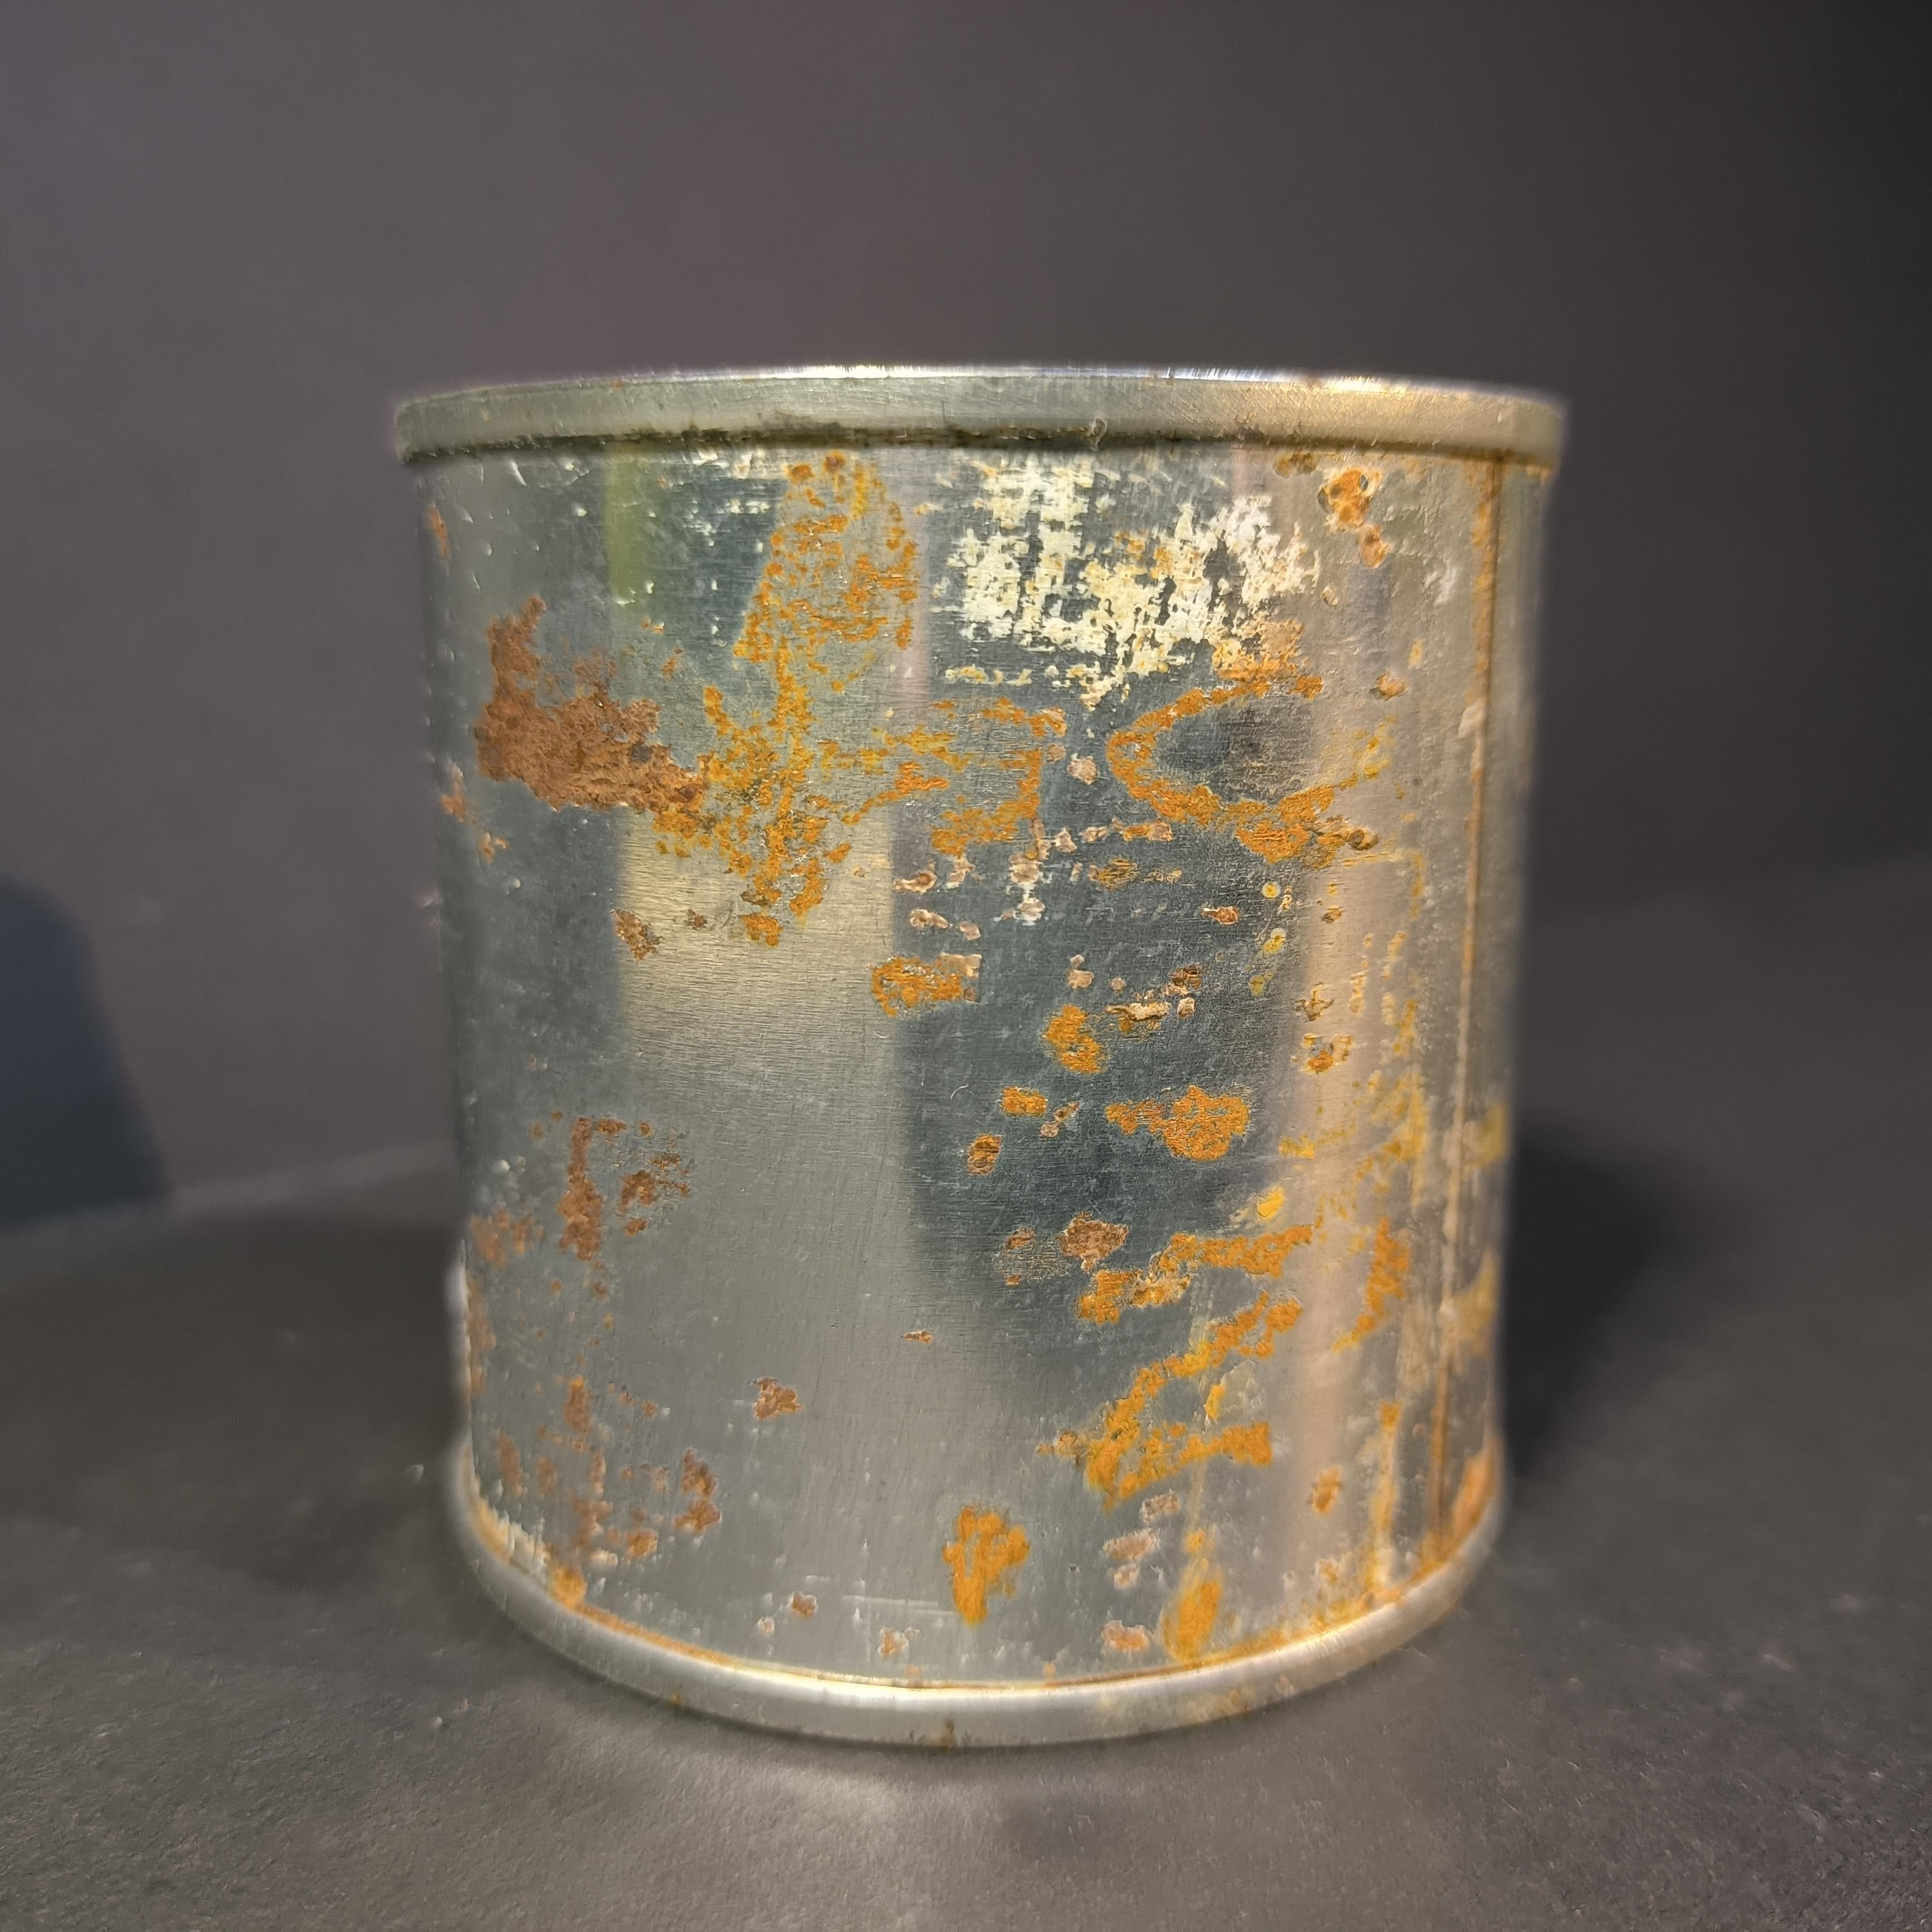Rusted: (375, 349, 1585, 1739)
